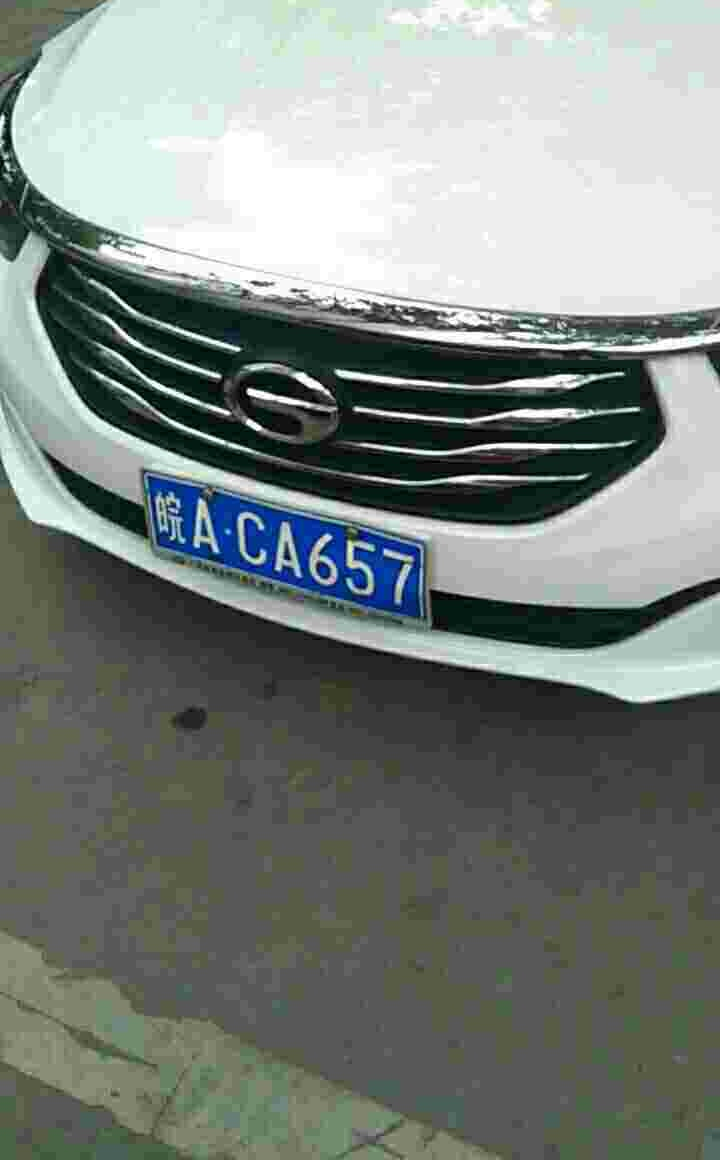license_plate: (147, 467, 438, 629)
